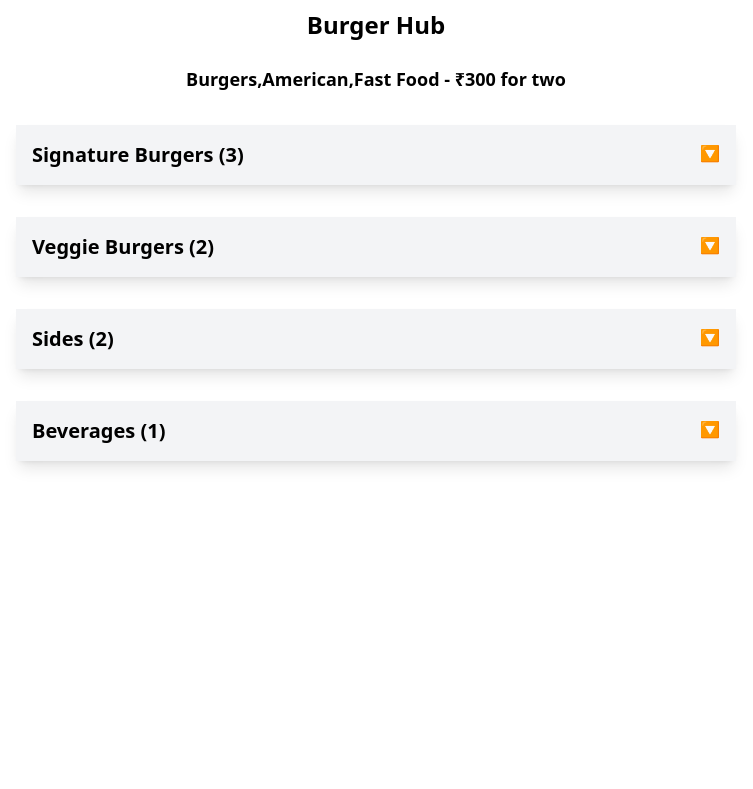
Test case: Should render Restaurent menu
This screenshot has width=753, height=789.
Click the text "Signature Burgers (3)".
click(138, 155)  # box [32,141,244,169]
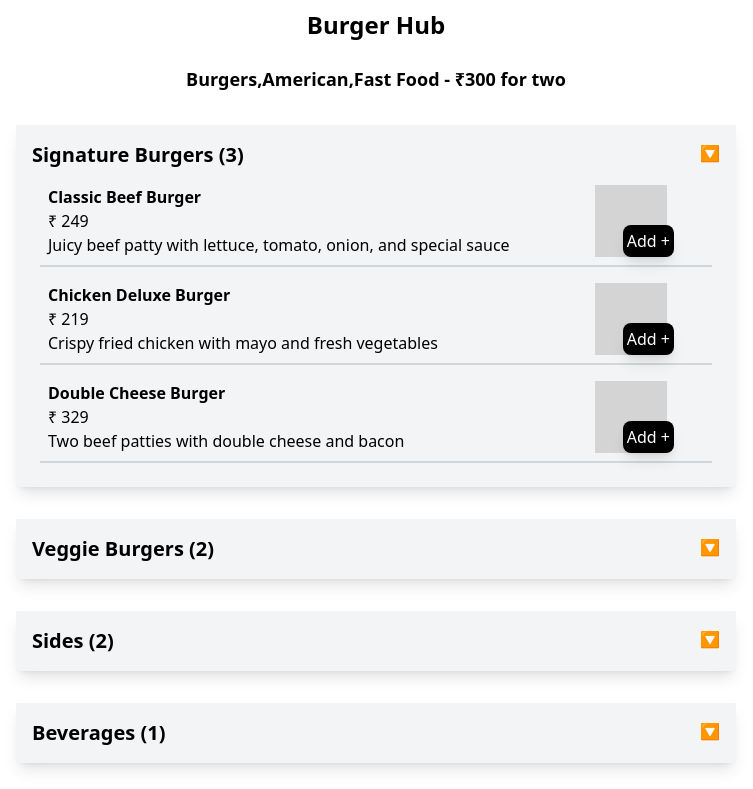
expect the number of elements with test id "foodItems" is 3: met, box [40,177,712,267]; [40,275,712,365]; [40,373,712,463]
